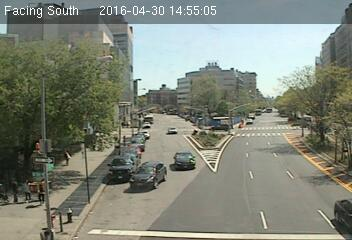neg: (139, 54, 154, 75), (159, 12, 174, 32), (272, 14, 286, 33), (135, 157, 149, 175), (157, 132, 170, 151), (39, 41, 51, 56), (110, 153, 121, 168), (76, 51, 87, 66), (188, 61, 199, 75), (222, 24, 232, 38), (249, 61, 259, 73), (336, 191, 345, 203), (62, 204, 71, 216), (119, 65, 128, 77), (310, 63, 319, 75), (40, 87, 49, 99), (233, 163, 242, 174), (101, 115, 108, 125), (65, 21, 72, 31), (255, 173, 261, 181), (309, 32, 313, 37)
pos: (4, 178, 23, 203), (21, 178, 39, 202), (33, 182, 50, 205), (59, 149, 76, 171)
